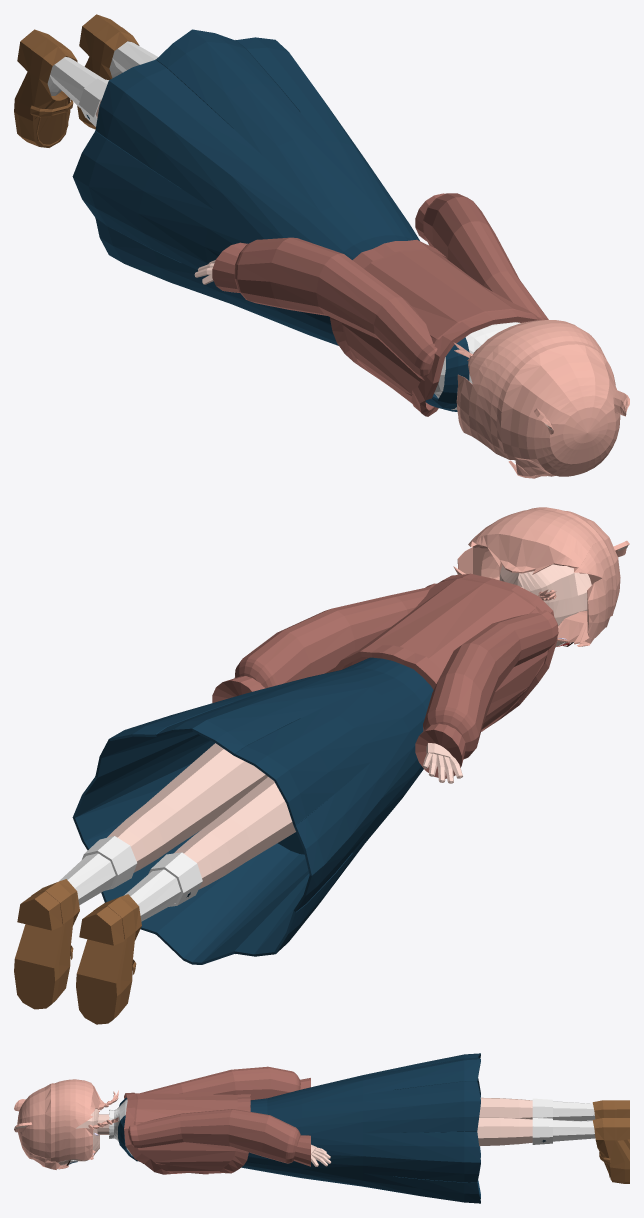
The model's file is reiya.obj.
3 renders of one model, top to bottom at view 1: azimuth 30°, elevation 25°; view 2: azimuth 150°, elevation 25°; view 3: azimuth 270°, elevation 25°, orthographic. The views are drawn at different scales.
Parts seen in each view (by area): view 1: skirt, arm_r, hair, cardigan, arm_l, shoe_r, bob_r, bob, sock_r, shoe_l, bodice, sock_l (+1 smaller); view 2: skirt, legs, cardigan, arm_r, arm_l, shoe_r, shoe_l, bob, sock_r, bob_r, sock_l, head (+2 smaller); view 3: skirt, arm_l, cardigan, arm_r, legs, hair, shoe_l, bob_l, sock_l, bob, sock_r, shoe_r (+3 smaller).
Boxes of the visible parts, bbox=[...] form: skirt: bbox=[72, 29, 419, 345]; arm_r: bbox=[194, 237, 437, 380]; hair: bbox=[496, 341, 620, 476]; cardigan: bbox=[330, 239, 542, 416]; arm_l: bbox=[415, 193, 548, 320]; shoe_r: bbox=[14, 29, 77, 147]; bob_r: bbox=[456, 356, 518, 460]; bob: bbox=[472, 320, 598, 372]; sock_r: bbox=[47, 57, 108, 126]; shoe_l: bbox=[77, 14, 139, 129]; bodice: bbox=[425, 337, 469, 411]; sock_l: bbox=[109, 41, 158, 78]; skirt: bbox=[72, 657, 433, 964]; legs: bbox=[107, 743, 295, 889]; cardigan: bbox=[334, 573, 557, 731]; arm_r: bbox=[415, 610, 558, 783]; arm_l: bbox=[212, 583, 436, 702]; shoe_r: bbox=[76, 894, 141, 1024]; shoe_l: bbox=[14, 879, 79, 1009]; bob: bbox=[472, 509, 598, 574]; sock_r: bbox=[124, 852, 202, 921]; bob_r: bbox=[557, 541, 613, 644]; sock_l: bbox=[59, 836, 137, 905]; head: bbox=[499, 564, 591, 647]; skirt: bbox=[241, 1053, 480, 1203]; arm_l: bbox=[128, 1109, 331, 1166]; cardigan: bbox=[124, 1092, 250, 1174]; arm_r: bbox=[140, 1066, 310, 1100]; legs: bbox=[477, 1097, 532, 1146]; hair: bbox=[17, 1083, 60, 1169]; shoe_l: bbox=[592, 1118, 629, 1183]; bob_l: bbox=[46, 1110, 95, 1161]; sock_l: bbox=[532, 1117, 595, 1144]; bob: bbox=[55, 1079, 105, 1115]; sock_r: bbox=[532, 1098, 595, 1120]; shoe_r: bbox=[592, 1100, 629, 1149].
Size of the model in its own units: 0.4522 by 0.3915 by 1.58.
